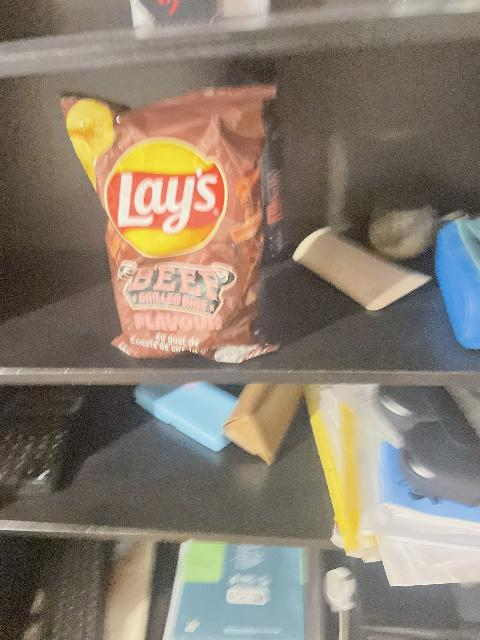Lays Beef Grilled Ribs 125g: (62, 89, 282, 353)
